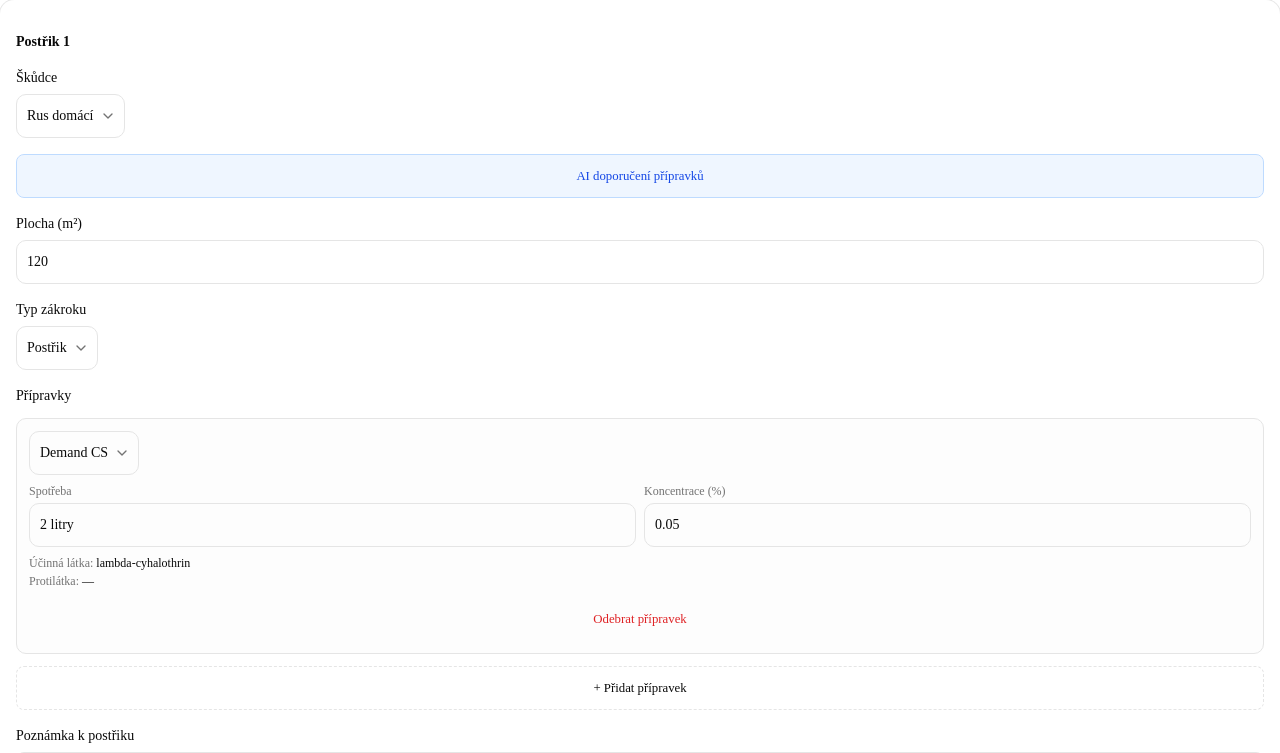
it: PostrikFormView › AI doporučení přípravků zobrazuje loading stav
The width and height of the screenshot is (1280, 753).
Click the button "AI doporučení přípravků" at (640,176), box x1=16 y1=154 x2=1264 y2=198
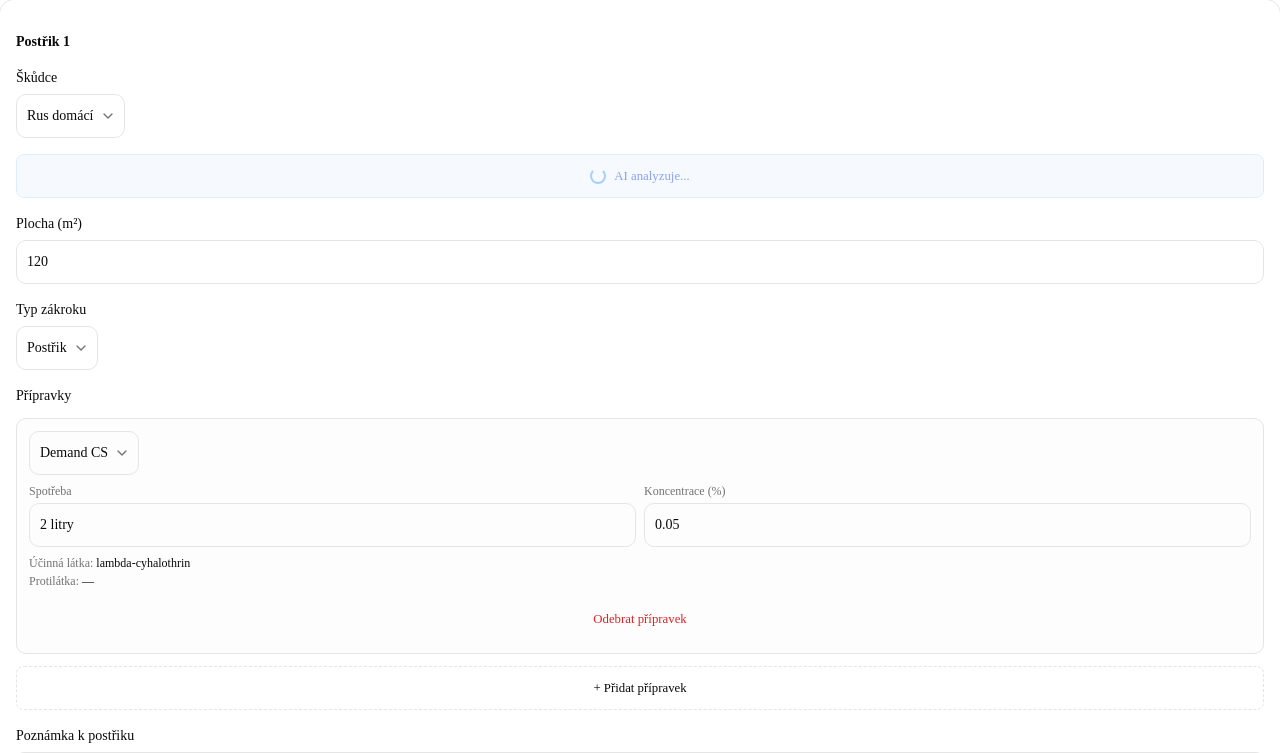
expect the text "AI analyzuje..." is shown: met, box x1=590 y1=167 x2=690 y2=185
